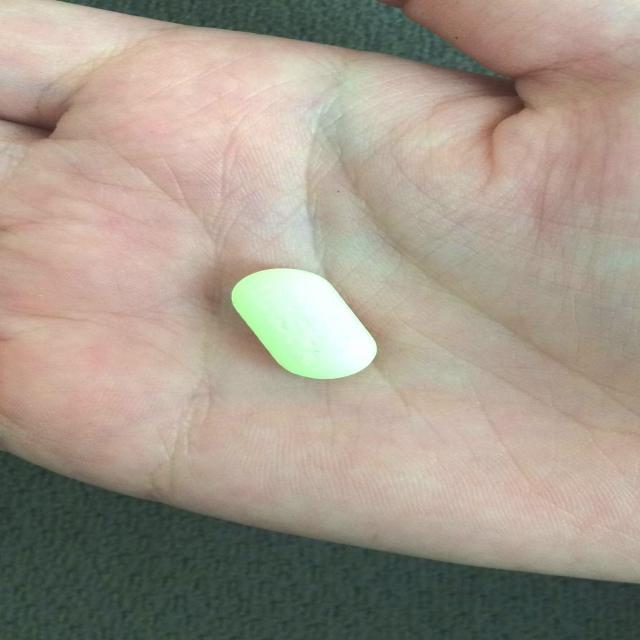pill: (222, 266, 382, 381)
